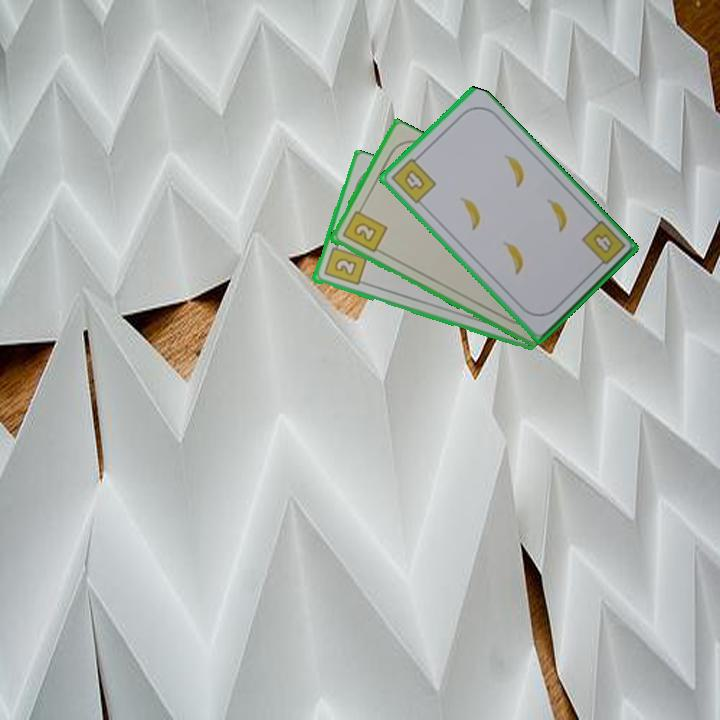2b: (339, 203, 389, 255), (320, 238, 369, 288)
4b: (387, 151, 439, 207), (580, 217, 628, 273)
